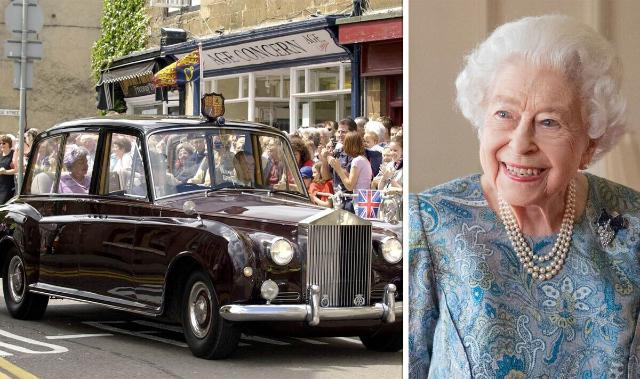rolls-royce: (0, 92, 402, 360)
